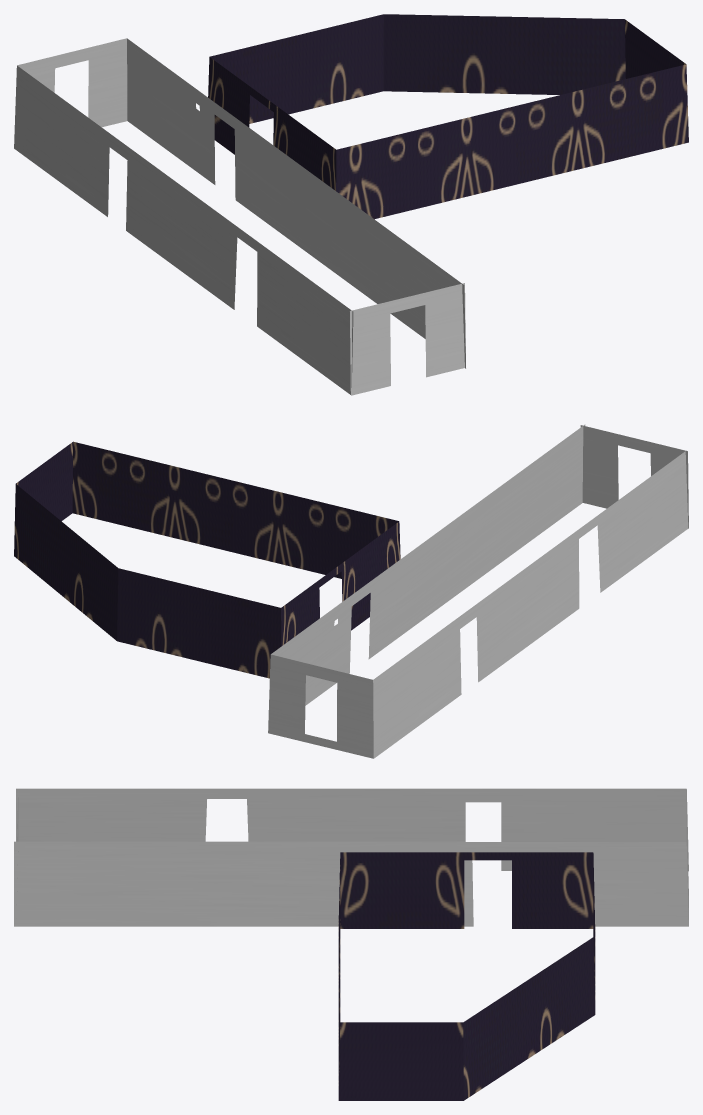
Rendered from hall5.fbx.
3 renders of one model, top to bottom at view 1: azimuth 30°, elevation 25°; view 2: azimuth 150°, elevation 25°; view 3: azimuth 270°, elevation 25°, orthographic. The views are drawn at different scales.
Parts seen in each view (by area): view 1: ENV_Wall02_Corner.001_dracular_room, ENV_Wall01.002_lobby; view 2: ENV_Wall01.002_lobby, ENV_Wall02_Corner.001_dracular_room; view 3: ENV_Wall01.002_lobby, ENV_Wall02_Corner.001_dracular_room.
Boxes of the visible parts, x1,y1,x2,y2 form: ENV_Wall02_Corner.001_dracular_room: (208, 14, 688, 219); ENV_Wall01.002_lobby: (14, 38, 465, 395); ENV_Wall01.002_lobby: (268, 424, 688, 758); ENV_Wall02_Corner.001_dracular_room: (14, 441, 400, 678); ENV_Wall01.002_lobby: (14, 788, 688, 926); ENV_Wall02_Corner.001_dracular_room: (338, 852, 595, 1100).
Size of what is drawn, in the model's own units: 13621 by 2374 by 15988.
